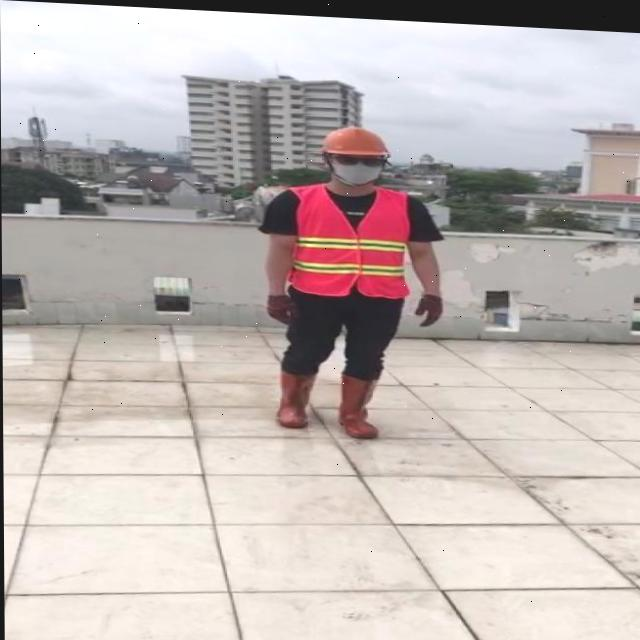Gloves: (265, 290, 297, 322), (414, 289, 443, 323)
Helmet: (320, 120, 389, 185)
Safety-Boot: (337, 366, 379, 435), (275, 360, 316, 426)
Safety-Vest: (284, 177, 411, 297)
